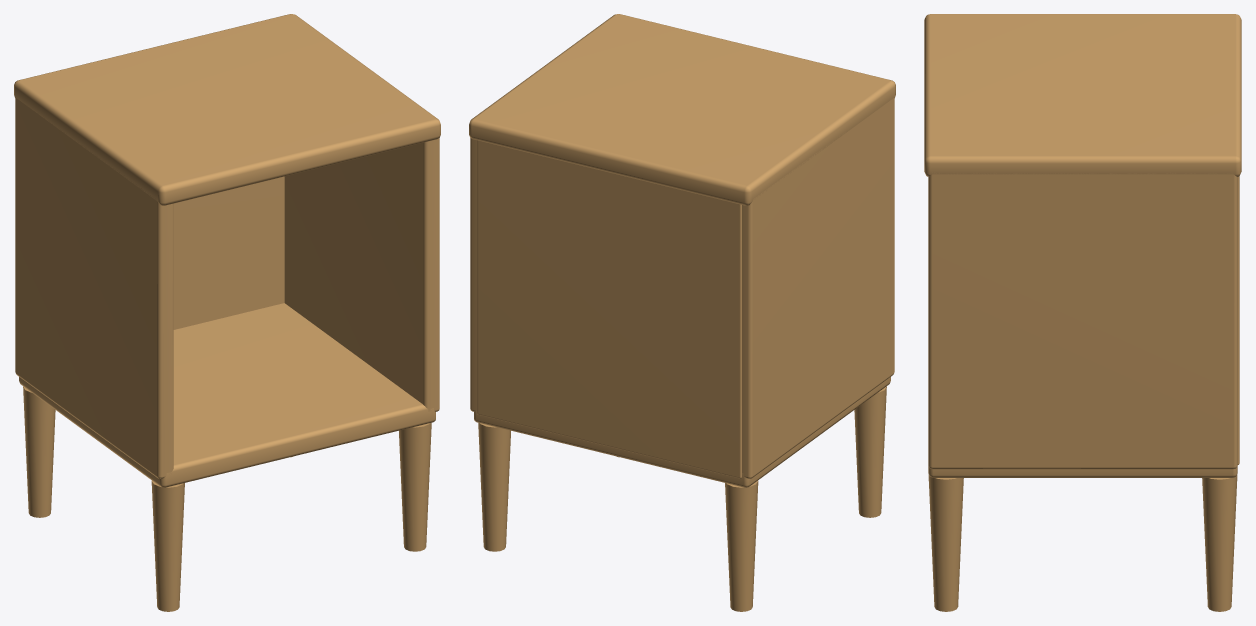
The model's file is apartment-bedside-open-oak.glb.
The picture shows the model from 3 angles, left to right: view 1: azimuth 30°, elevation 25°; view 2: azimuth 150°, elevation 25°; view 3: azimuth 270°, elevation 25°; orthographic projection. The views are drawn at different scales.
Visible parts, largest first — view 1: catalog_surface_RealismUV; view 2: catalog_surface_RealismUV; view 3: catalog_surface_RealismUV.
Part boxes in pixels (x1,y1,x2,y2): catalog_surface_RealismUV: (14,14,440,611); catalog_surface_RealismUV: (469,14,895,611); catalog_surface_RealismUV: (924,14,1241,611).
Bounding box in the file's own units: 0.35 × 0.51 × 0.32.
